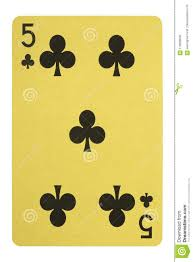five of clubs: (13, 17, 162, 245)
